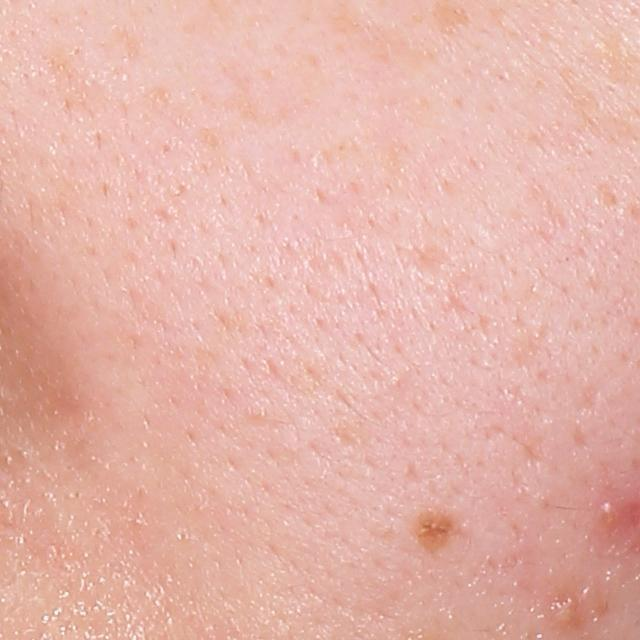melasma: (401, 508, 458, 559)
papule: (597, 497, 636, 537)
